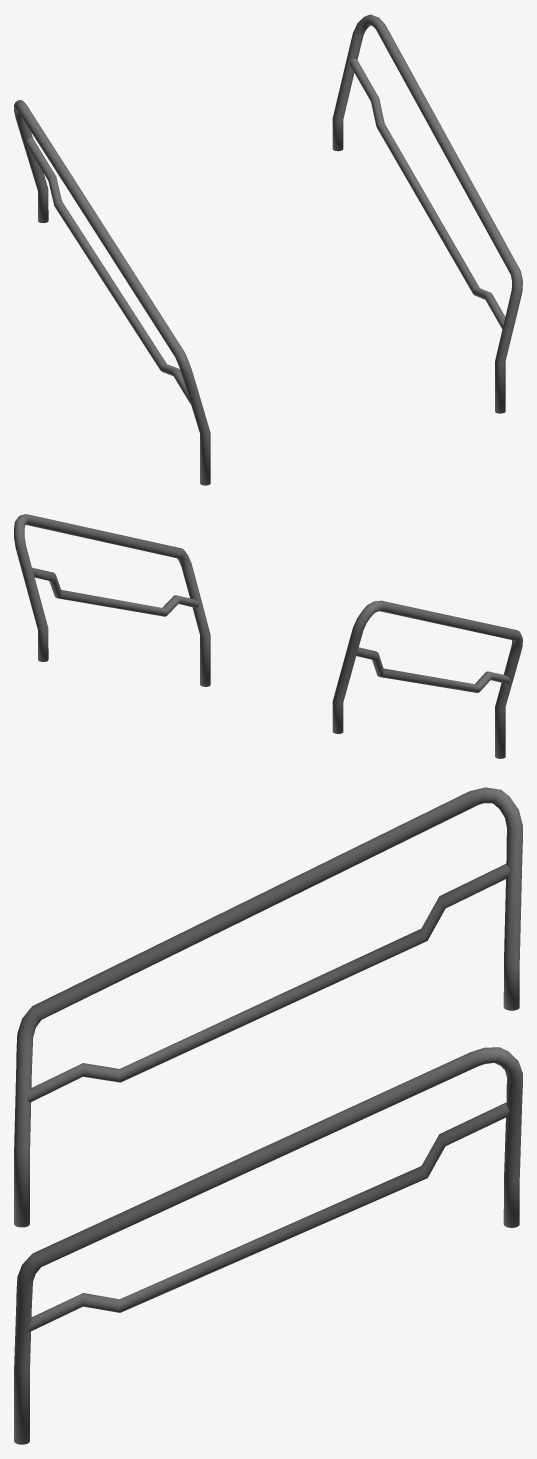
Rendered from rails.glb.
3 views of the same model, one above another, from view 1: azimuth 30°, elevation 25°; view 2: azimuth 150°, elevation 25°; view 3: azimuth 270°, elevation 25° (orthographic). The views are drawn at different scales.
Visible parts, largest first — view 1: Platform_Rails_2; view 2: Platform_Rails_2; view 3: Platform_Rails_2.
Part boxes in pixels (left/top/right/bottom): Platform_Rails_2: left=14, top=14, right=522, bottom=485; Platform_Rails_2: left=14, top=514, right=522, bottom=758; Platform_Rails_2: left=14, top=787, right=522, bottom=1444.
Size of the model in its own units: 2.36 by 1.7 by 1.89.
1 material, 1 textured.
